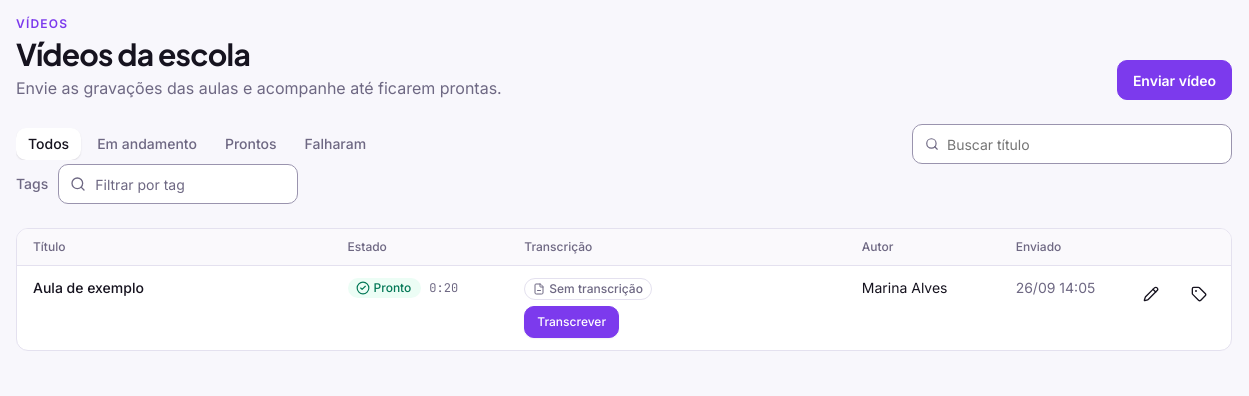
video-transcription-status › requests without a body, sends CSRF and idempotency, and uses the accepted server row without reloading
Click the button with aria-label "Transcrever Aula de exemplo". click: (572, 322)
box: 524,306 -> 619,338
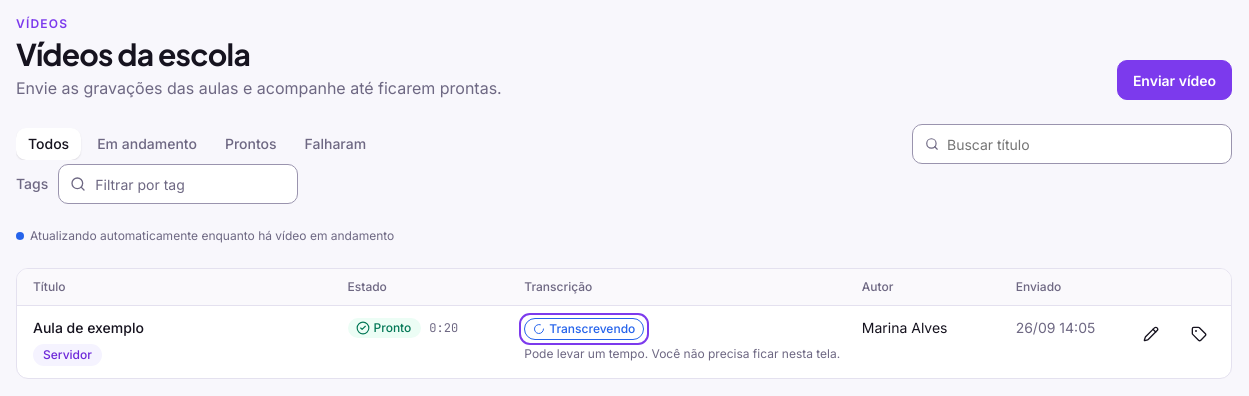
Check: the text "Transcrevendo" is shown, box 524,318 -> 644,340
Check: the element named "Tags de Aula de exemplo" reads "Servidor", box 43,347 -> 92,362
Check: the button "Transcrever " is gone
